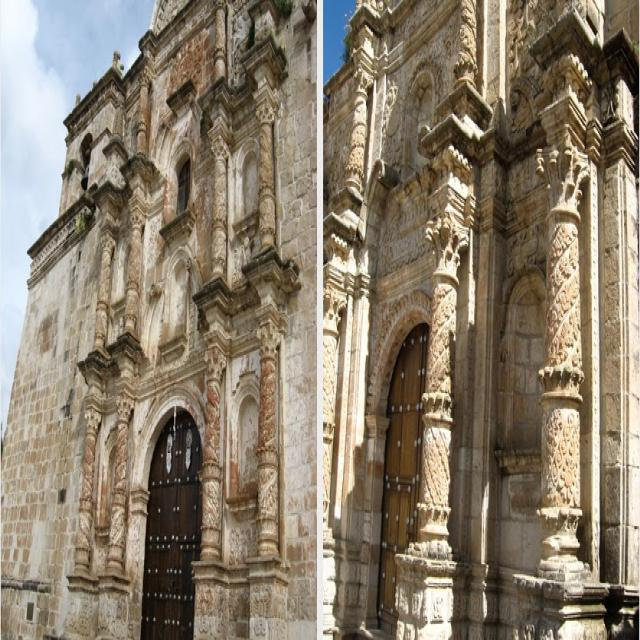SIMETRIA COLONIAL: (114, 381, 216, 627)
